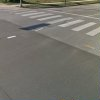crosswalk: (13, 10, 100, 37)
